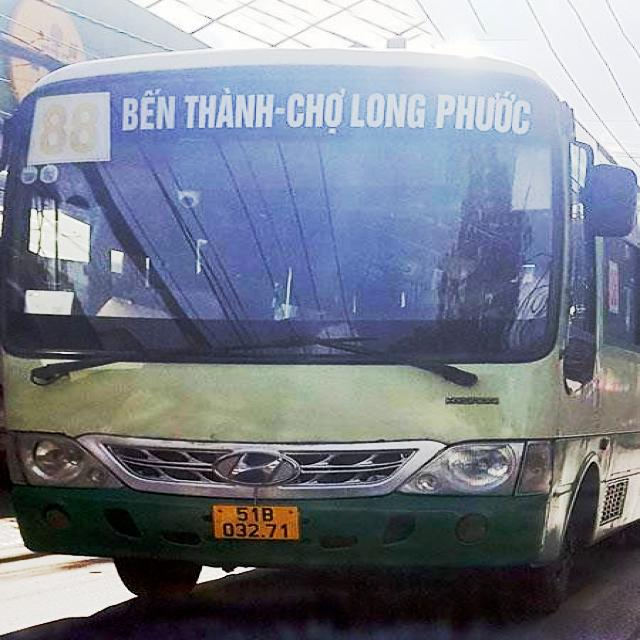license_plate: (212, 505, 300, 540)
